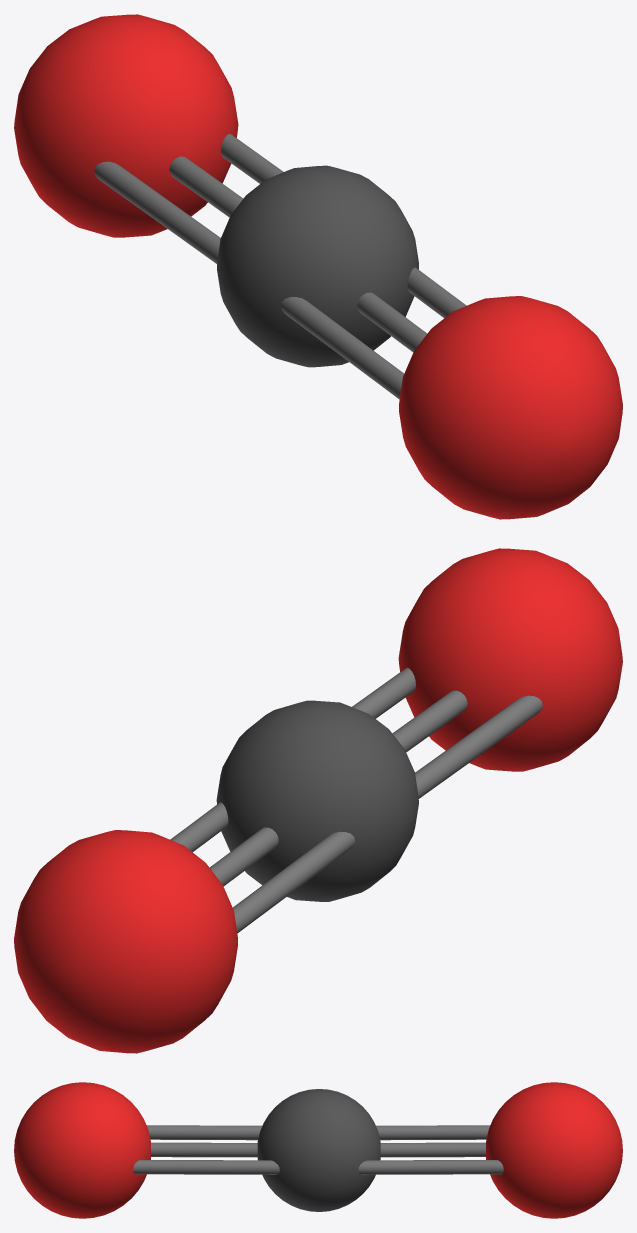
The picture shows the model from 3 angles, top to bottom: view 1: azimuth 30°, elevation 25°; view 2: azimuth 150°, elevation 25°; view 3: azimuth 270°, elevation 25°; orthographic projection. The views are drawn at different scales.
Parts seen in each view (by area): view 1: CO2; view 2: CO2; view 3: CO2.
Part boxes in pixels (box(x1,y1,x2,y2)): CO2: box(14, 14, 622, 519); CO2: box(14, 548, 622, 1053); CO2: box(14, 1082, 622, 1218).
Size of the model in its own units: 1.85 by 1.85 by 8.18.
